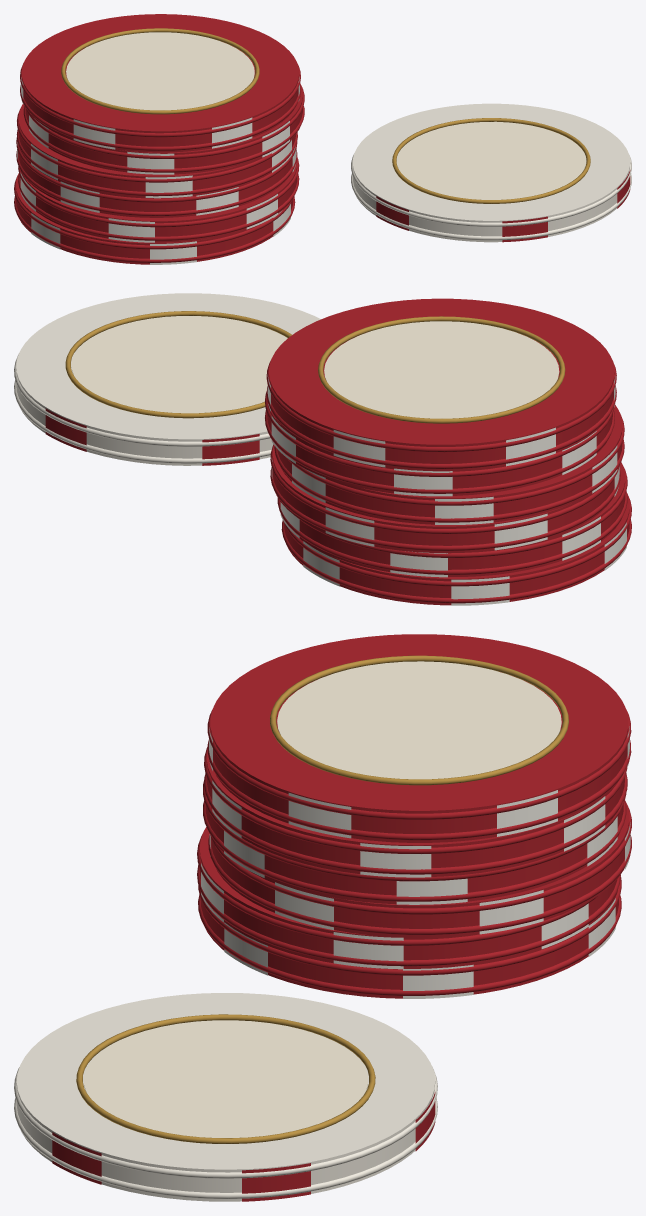
File: poker-chips-short.glb
3 views of the same model, one above another, from view 1: azimuth 30°, elevation 25°; view 2: azimuth 150°, elevation 25°; view 3: azimuth 270°, elevation 25° (orthographic). The views are drawn at different scales.
Visible parts, largest first — view 1: chip_body (×7), face_inlay (×2), rim_groove (×14), inlay_ring (×2), edge_spot_0 (×4), edge_spot_1 (×4), edge_spot_5 (×3), edge_spot_2 (×2), edge_spot_4; view 2: chip_body (×7), face_inlay (×2), rim_groove (×14), inlay_ring (×2), edge_spot_4 (×5), edge_spot_5 (×4), edge_spot_3 (×3), edge_spot_0 (×3), edge_spot_2, edge_spot_1; view 3: chip_body (×7), face_inlay (×2), rim_groove (×14), inlay_ring (×2), edge_spot_2 (×4), edge_spot_3 (×4), edge_spot_1 (×3), edge_spot_4 (×2), edge_spot_0.
Part boxes in pixels (x1,y1,x2,y2): chip_body (×7): (15,14,630,264); face_inlay (×2): (66,32,585,199); rim_groove (×14): (14,63,631,262); inlay_ring (×2): (61,28,590,203); edge_spot_0 (×4): (31,117,252,249); edge_spot_1 (×4): (31,144,277,264); edge_spot_5 (×3): (60,119,547,242); edge_spot_2 (×2): (145,121,289,198); edge_spot_4: (376,196,408,230); chip_body (×7): (16,293,629,605); face_inlay (×2): (71,316,559,418); rim_groove (×14): (14,354,631,603); inlay_ring (×2): (65,311,565,423); edge_spot_4 (×5): (271,416,555,586); edge_spot_5 (×4): (292,464,600,605); edge_spot_3 (×3): (202,430,385,546); edge_spot_0 (×3): (435,431,626,570); edge_spot_2: (45,408,86,451); edge_spot_1: (592,445,617,493); chip_body (×7): (16,634,629,1201); face_inlay (×2): (84,661,561,1137); rim_groove (×14): (14,710,631,1198); inlay_ring (×2): (76,655,568,1143); edge_spot_2 (×4): (224,790,557,975); edge_spot_3 (×4): (224,830,588,998); edge_spot_1 (×3): (242,793,351,1201); edge_spot_4 (×2): (396,796,605,904); edge_spot_0: (52,1132,101,1184).
Bounding box in the file's own units: 0.0843 × 0.021 × 0.0576.
